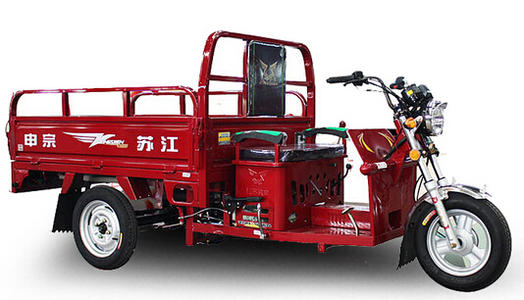tricycle: (12, 30, 510, 286)
